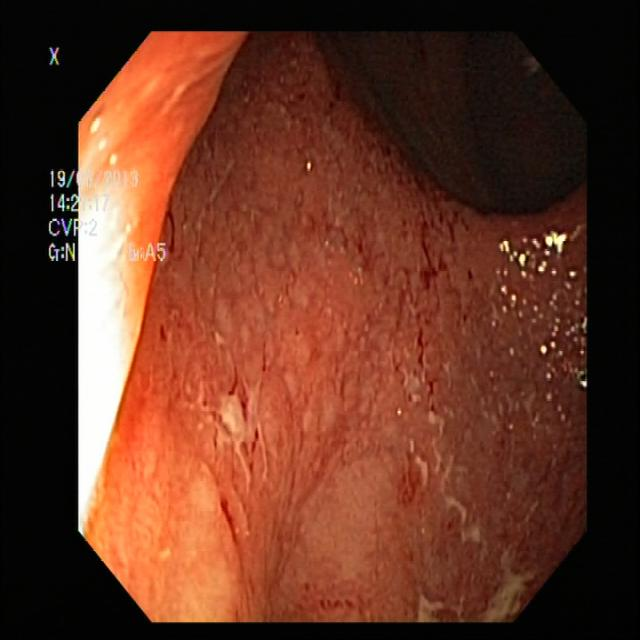ulcerative-colities: (92, 25, 596, 628)
